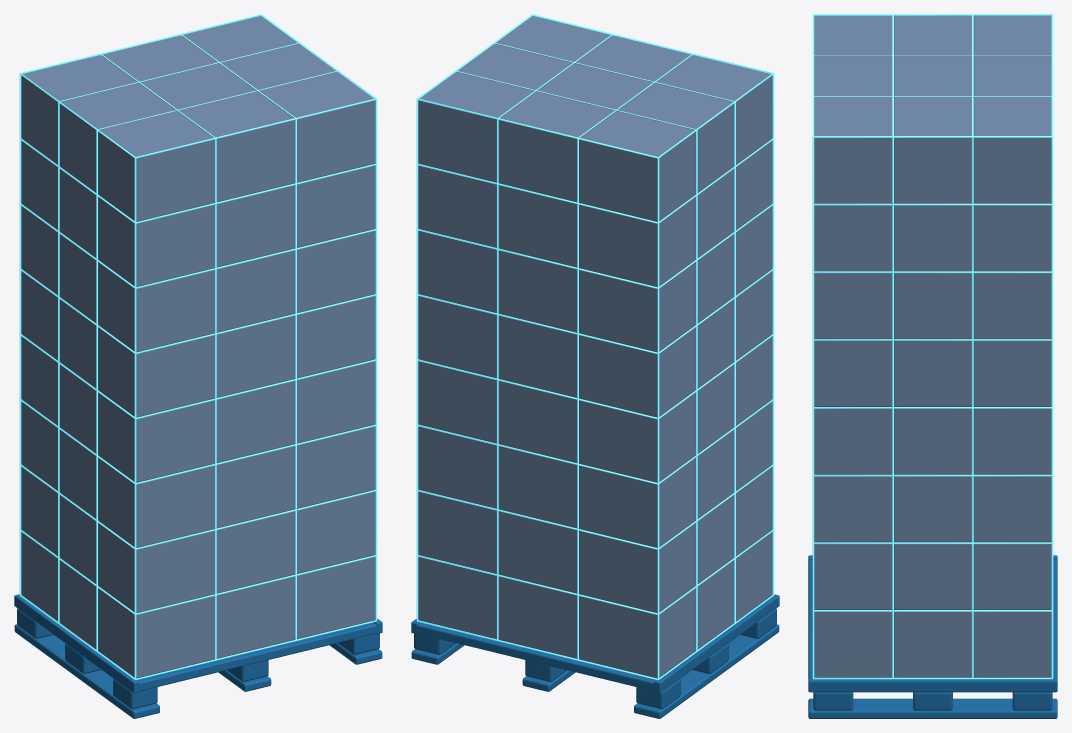
The model's file is SM_GHS_Presentation_CargoHigh.fbx.
The picture shows the model from 3 angles, left to right: view 1: azimuth 30°, elevation 25°; view 2: azimuth 150°, elevation 25°; view 3: azimuth 270°, elevation 25°; orthographic projection. The views are drawn at different scales.
Parts seen in each view (by area): view 1: SM_GHS_Presentation_CargoHigh; view 2: SM_GHS_Presentation_CargoHigh; view 3: SM_GHS_Presentation_CargoHigh.
Part boxes in pixels (x1=…): SM_GHS_Presentation_CargoHigh: x1=14, y1=14, x2=382, y2=718; SM_GHS_Presentation_CargoHigh: x1=411, y1=14, x2=779, y2=718; SM_GHS_Presentation_CargoHigh: x1=808, y1=14, x2=1057, y2=718.
Bounding box in the file's own units: 120 × 100 × 258.
